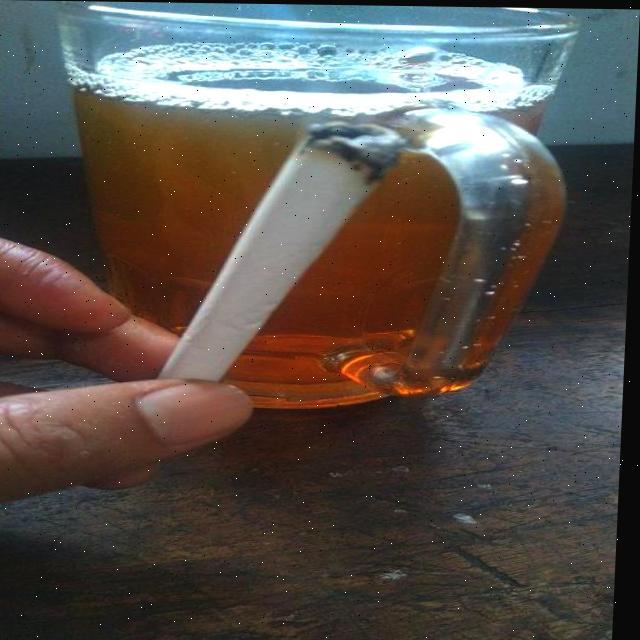cigarette: (166, 118, 403, 385)
